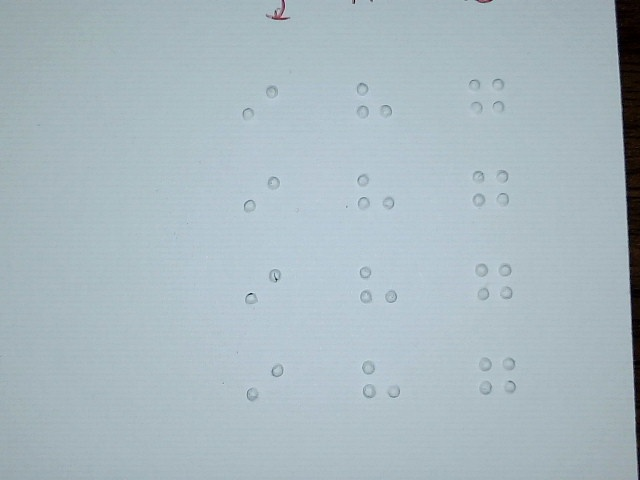G: (467, 67, 507, 136), (471, 158, 511, 227), (474, 252, 514, 321), (478, 346, 518, 415)
H: (355, 72, 395, 141), (356, 162, 396, 231), (359, 257, 399, 326), (360, 351, 400, 420)
I: (241, 76, 281, 145), (243, 167, 283, 236), (245, 354, 285, 423)
